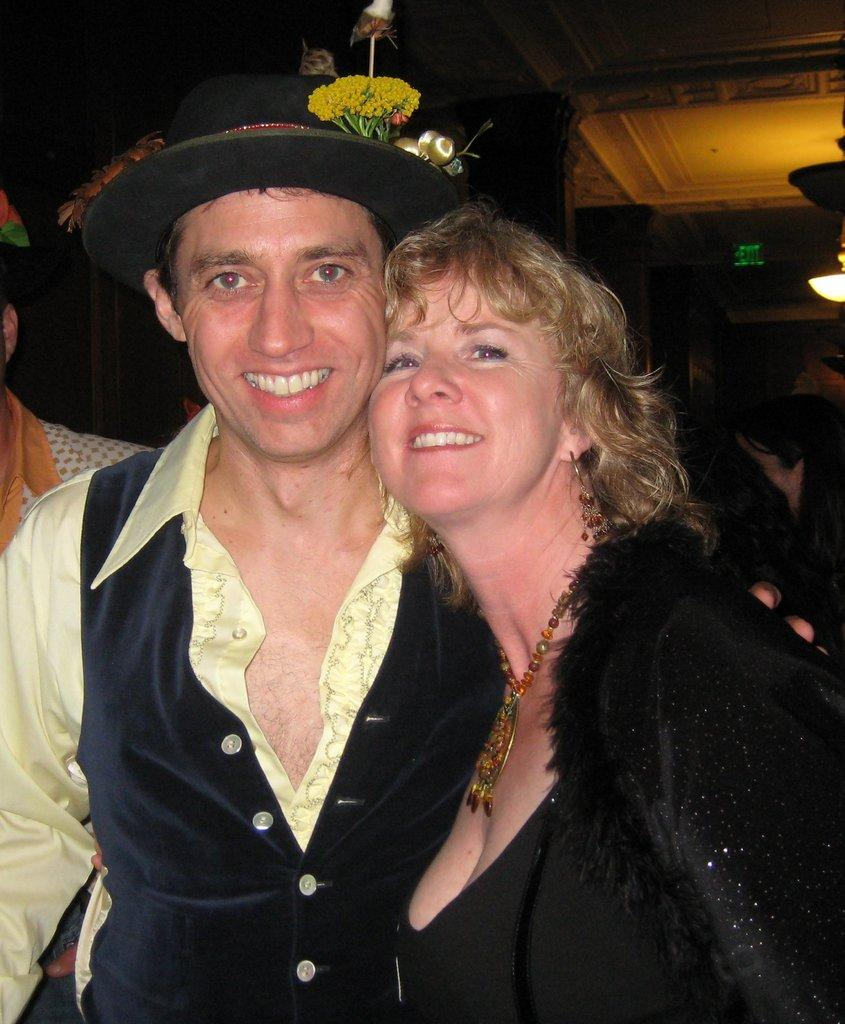Hat: (59, 68, 488, 370)
